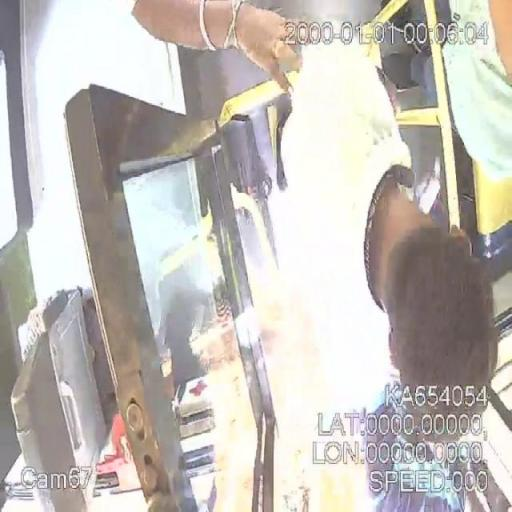persona: (262, 24, 501, 454)
